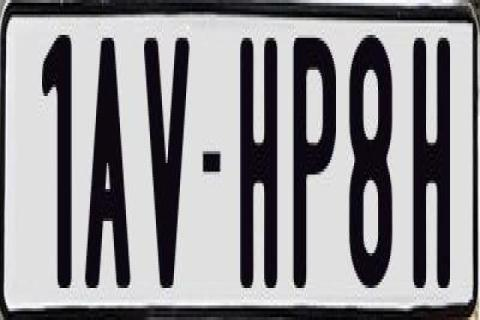0: (348, 27, 394, 286), (41, 35, 71, 294)
A: (82, 32, 136, 296)
H: (412, 32, 456, 288), (238, 38, 278, 306)
P: (291, 29, 335, 288)
V: (140, 32, 188, 282)
